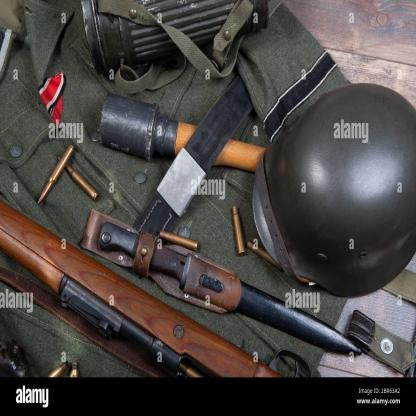Grenade: (99, 90, 267, 173)
Gun: (0, 198, 283, 377)
Knife: (80, 206, 362, 357)
